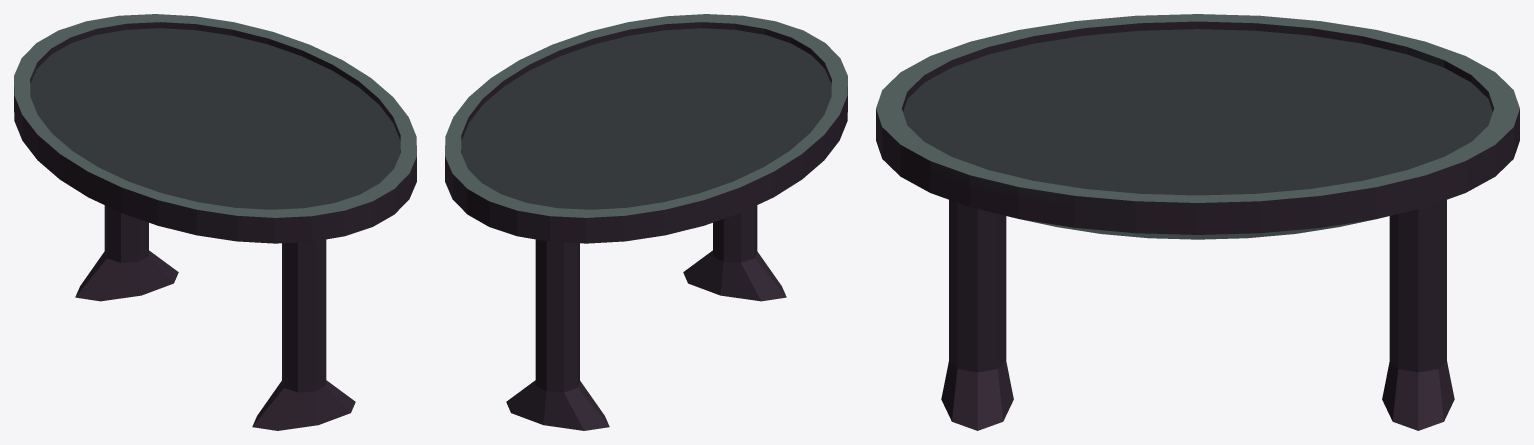
File: TableTextured.fbx
3 renders of one model, left to right at view 1: azimuth 30°, elevation 25°; view 2: azimuth 150°, elevation 25°; view 3: azimuth 270°, elevation 25°, orthographic. The views are drawn at different scales.
Parts seen in each view (by area): view 1: Cylinder; view 2: Cylinder; view 3: Cylinder.
Boxes of the visible parts, x1,y1,x2,y2 form: Cylinder: [14, 14, 416, 430]; Cylinder: [445, 14, 847, 430]; Cylinder: [876, 14, 1519, 430].
Bounding box in the file's own units: 345 × 248 × 497.
